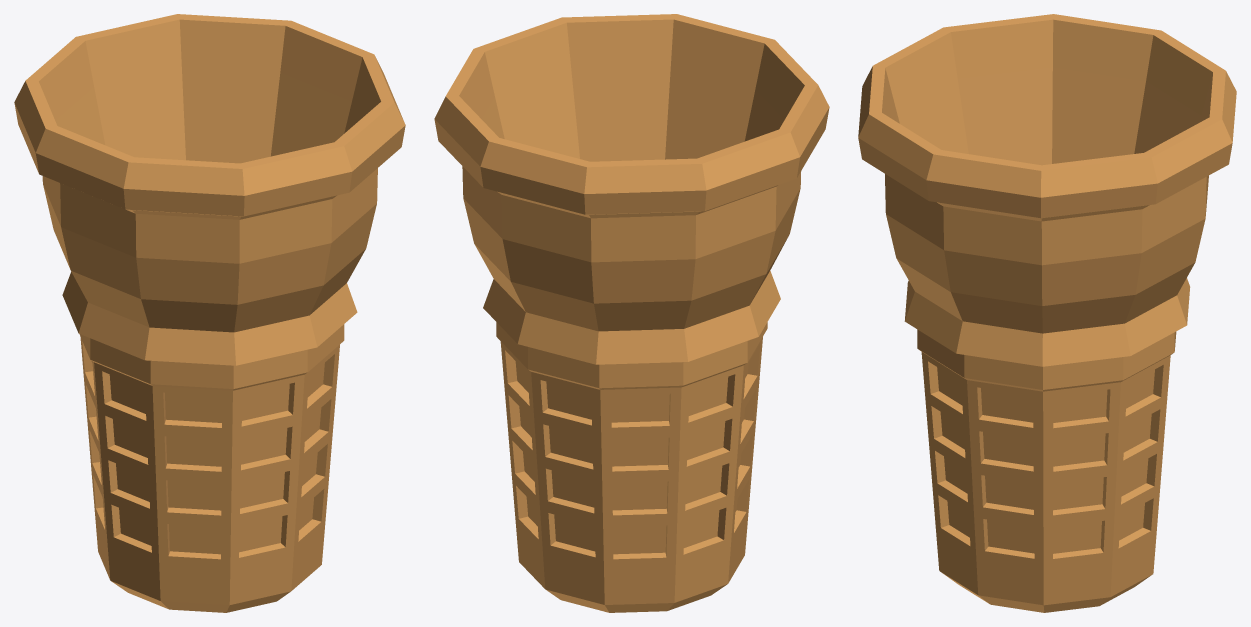
Rendered from IceCream_Cone2.obj.
3 renders of one model, left to right at view 1: azimuth 30°, elevation 25°; view 2: azimuth 150°, elevation 25°; view 3: azimuth 270°, elevation 25°, orthographic.
Parts seen in each view (by area): view 1: IceCream_Cone2; view 2: IceCream_Cone2; view 3: IceCream_Cone2.
Boxes of the visible parts, <box> form: IceCream_Cone2: <box>14,14,405,612</box>; IceCream_Cone2: <box>434,14,829,612</box>; IceCream_Cone2: <box>858,14,1236,612</box>.
Size of the model in its own units: 0.4668 by 0.6297 by 0.4488.
